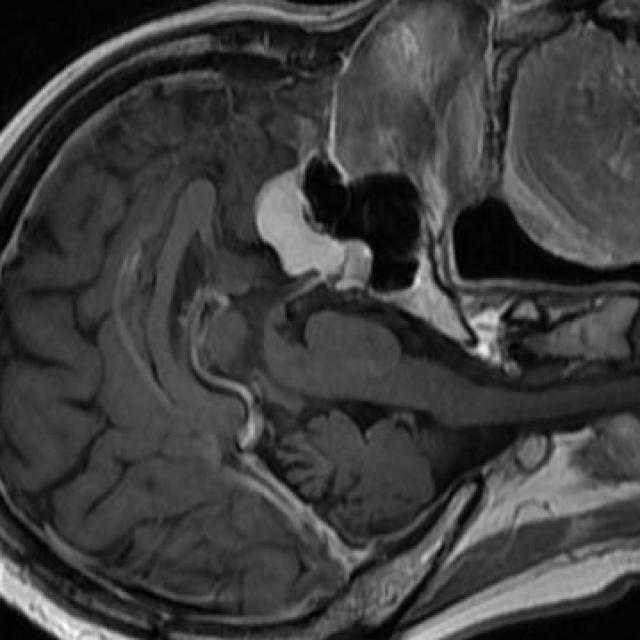meningioma: (260, 171, 344, 276)
